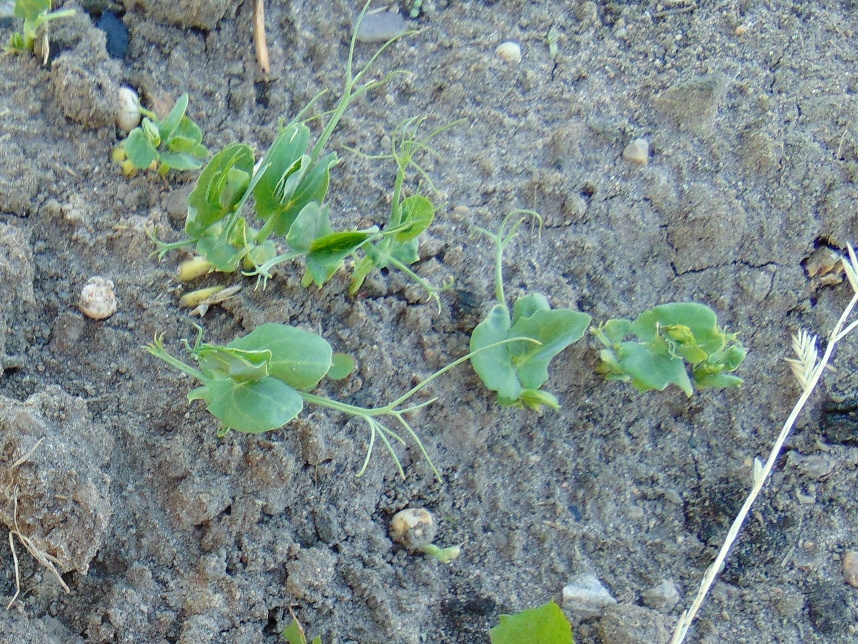crop: (169, 87, 451, 310), (139, 309, 424, 461), (456, 216, 594, 417), (591, 293, 749, 392), (108, 76, 211, 175), (1, 1, 81, 65), (388, 507, 465, 565)
weed: (489, 596, 577, 644), (284, 617, 322, 644)
